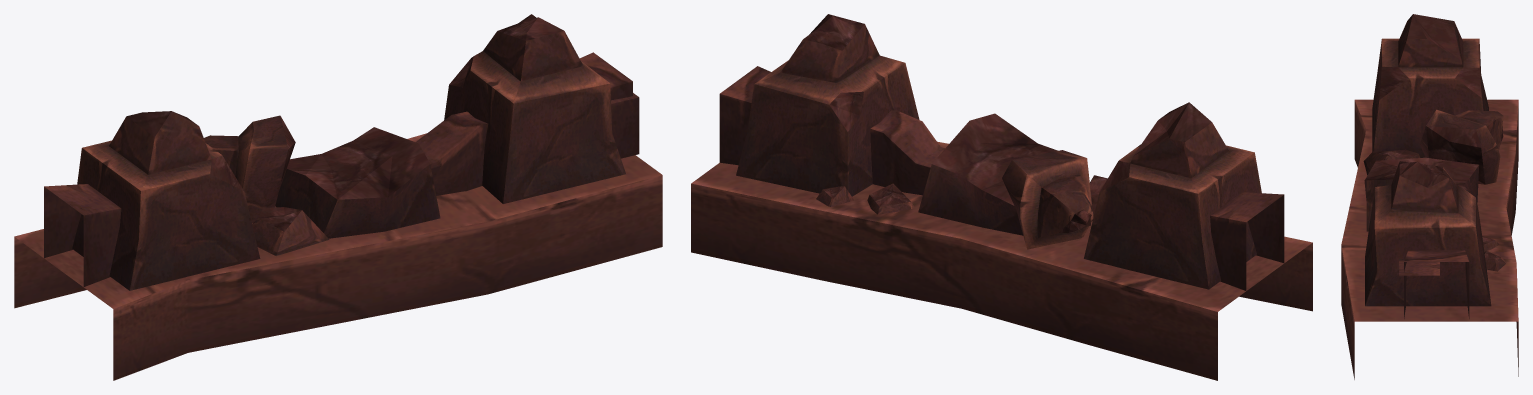
The model's file is lava_railing_straight_02.fbx.
3 renders of one model, left to right at view 1: azimuth 30°, elevation 25°; view 2: azimuth 150°, elevation 25°; view 3: azimuth 270°, elevation 25°, orthographic. The views are drawn at different scales.
Parts seen in each view (by area): view 1: lava_railing_straight_02-0; view 2: lava_railing_straight_02-0; view 3: lava_railing_straight_02-0.
Boxes of the visible parts, x1,y1,x2,y2 form: lava_railing_straight_02-0: (14,14,662,380); lava_railing_straight_02-0: (691,14,1312,380); lava_railing_straight_02-0: (1341,14,1518,379).
Size of the model in its own units: 4.03 by 1.55 by 1.35.
